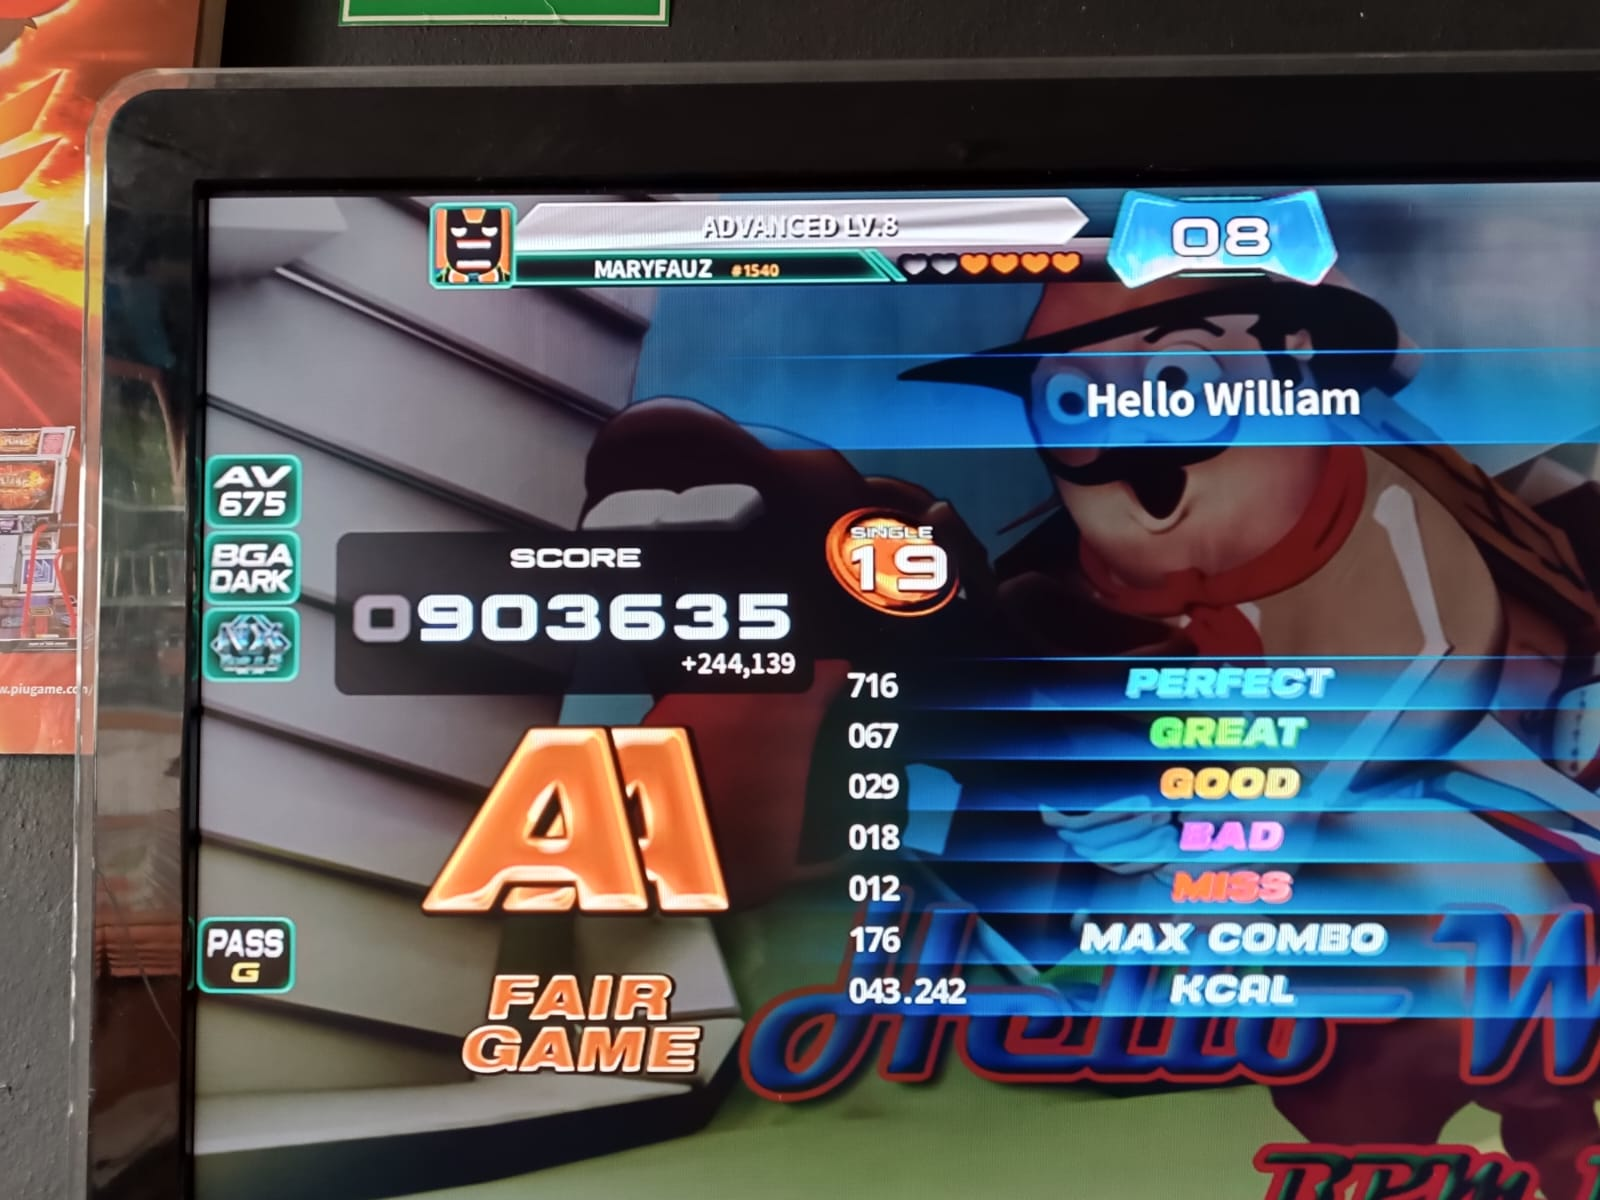difficulty: (826, 511, 975, 616)
fullscore: (0, 189, 1422, 1200)
rank: (411, 715, 729, 924)
score: (355, 507, 810, 649)
song_name: (775, 340, 1600, 473)
